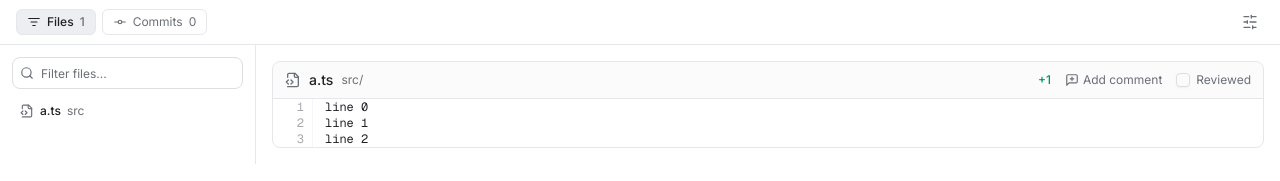
Test: diff eficiente (#47) › "Reviewed" colapsa o arquivo
Check: the text "line 1" is shown, box 325,115 -> 368,131
Click the checkbox named "Reviewed" at x=1183, y=80, box 1176,73 -> 1190,87
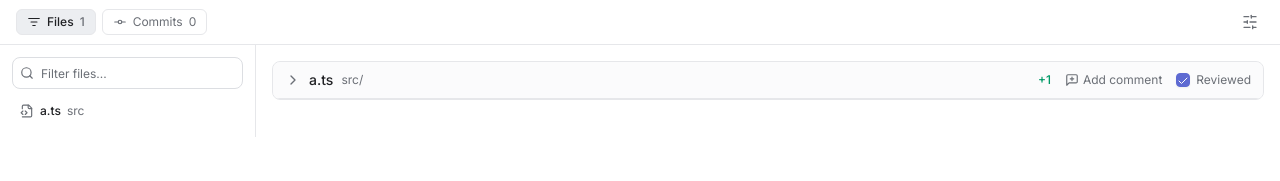
Check: the text "line 1" is gone
